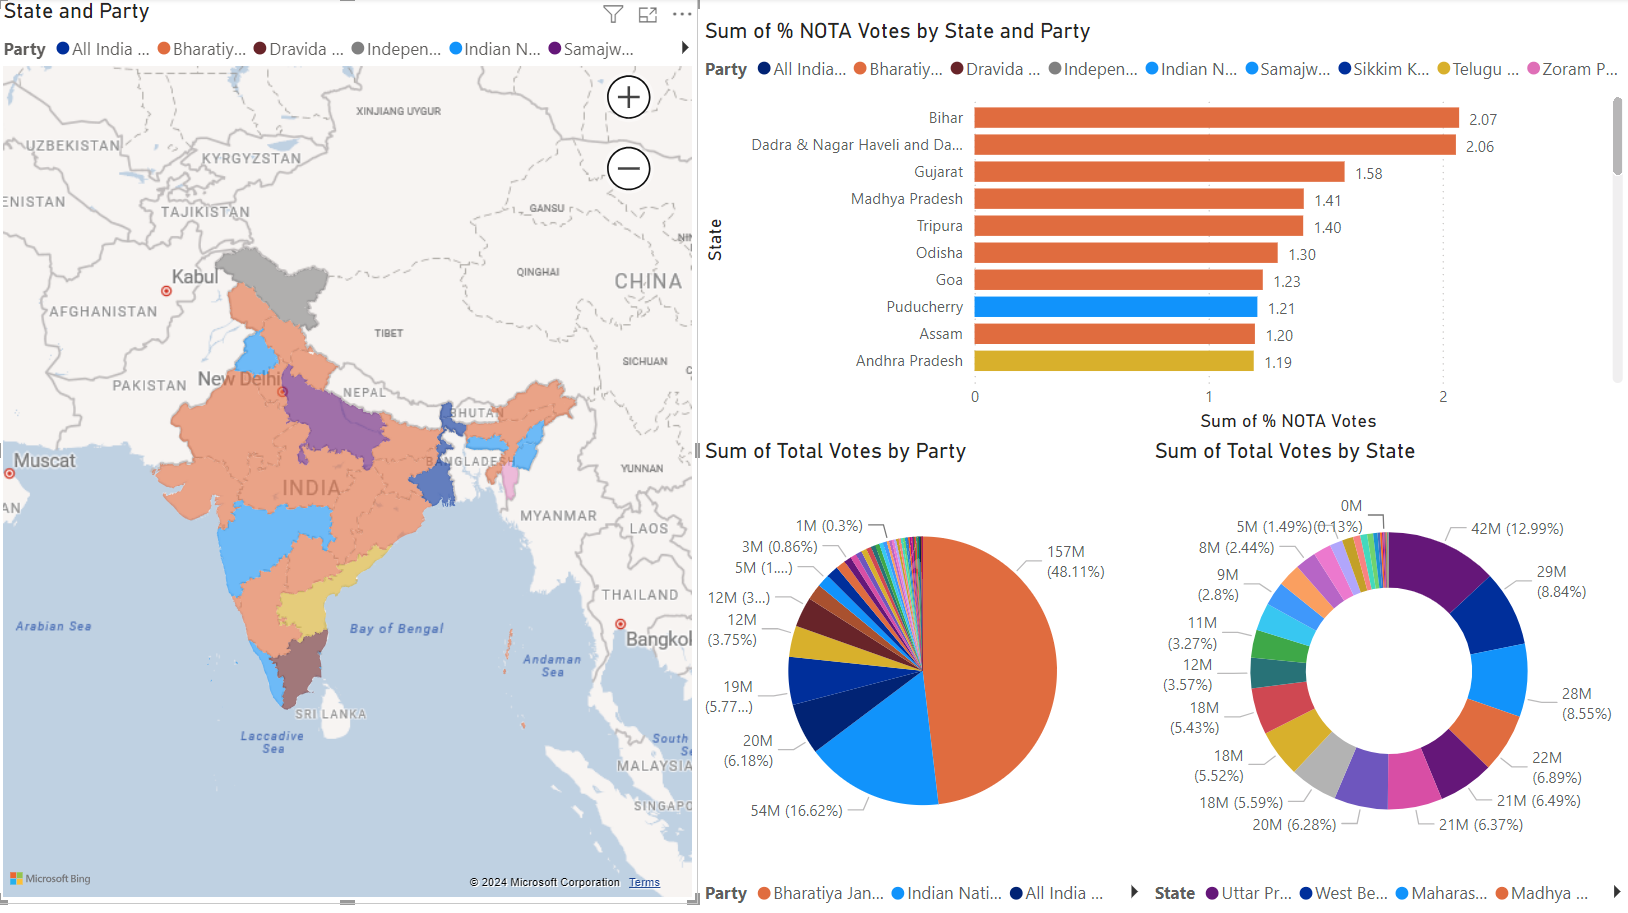

This screenshot's page, from the dashboard's own definition file:
{"tool":"powerbi","page":{"name":"Page 1","canvas":[1280,720],"ordinal":0},"visuals":[{"type":"filledMap","fields":{"Category":["state-wise-win.State"],"Series":["state-wise-win.Party"]},"box":[0,0,550,710],"z":0},{"type":"pieChart","fields":{"Y":["Sum(winner.Total Votes)"],"Category":["winner.Party"]},"box":[550,344.4,352.2,375.6],"z":1000},{"type":"donutChart","fields":{"Y":["Sum(winner.Total Votes)"],"Category":["state-wise-win.State"]},"box":[902.2,344.4,377.8,375.6],"z":2000},{"type":"barChart","fields":{"Category":["state_nota_totals.State"],"Y":["Sum(state_nota_totals.% NOTA Votes)"],"Series":["state-wise-win.Party"]},"box":[550,15.6,730,328.9],"z":3000}]}

Visuals, with their boxes in screenshot pixels (x1, y1, x2, y2), scaled from the page's 1280x720 canvas onto the 1628x913 screenshot:
filledMap - state-wise-win.State x state-wise-win.Party: 0, 0, 700, 900
pieChart - Sum(winner.Total Votes) x winner.Party: 700, 437, 1147, 912
donutChart - Sum(winner.Total Votes) x state-wise-win.State: 1147, 437, 1627, 912
barChart - state_nota_totals.State x Sum(state_nota_totals.% NOTA Votes): 700, 20, 1627, 437
